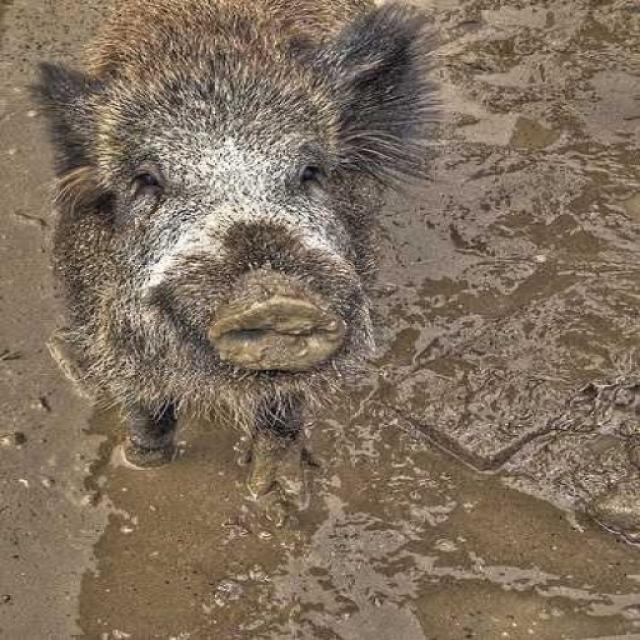pig: (21, 0, 449, 502)
